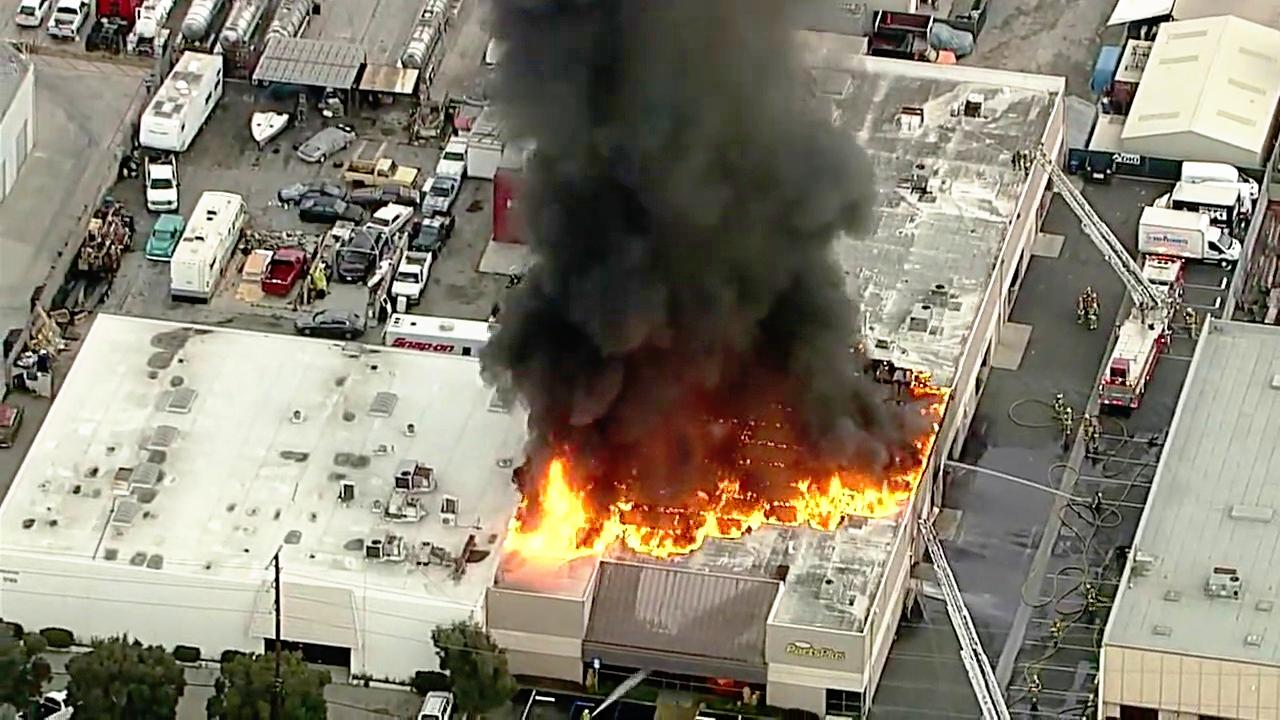fire: (511, 455, 600, 570), (613, 489, 745, 560), (762, 475, 902, 532)
smoke: (569, 0, 825, 402)
